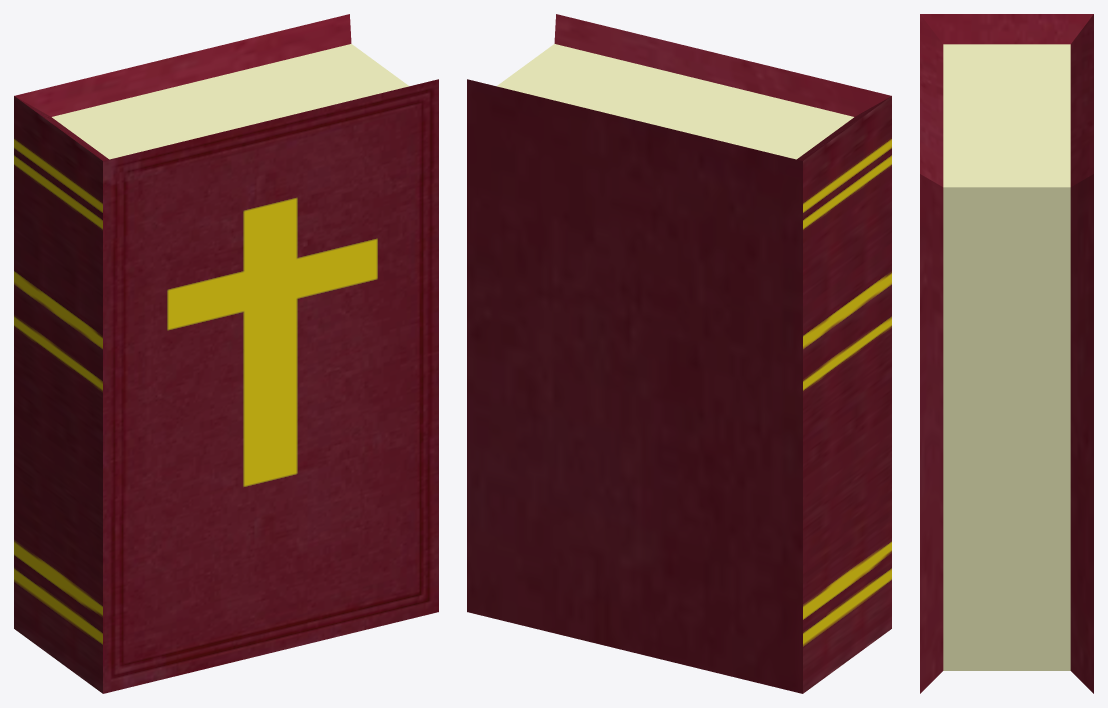
File: book.fbx
The picture shows the model from 3 angles, left to right: view 1: azimuth 30°, elevation 25°; view 2: azimuth 150°, elevation 25°; view 3: azimuth 270°, elevation 25°; orthographic projection. The views are drawn at different scales.
Visible parts, largest first — view 1: Cube; view 2: Cube; view 3: Cube.
Part boxes in pixels (x1,y1,x2,y2): Cube: [14, 14, 438, 693]; Cube: [467, 14, 891, 693]; Cube: [920, 14, 1093, 693].
Size of the model in its own units: 29.62 by 44.92 by 13.61.
1 material, 1 textured.
